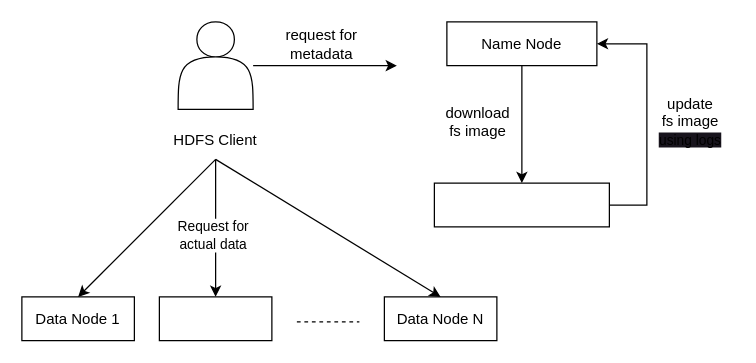
Image size: 756x363. Some labels were removed from this diagram. The shapes that lost their labels are listed below. From the top down, each one's centre as x and y in pixels, then its label:
the point at 521,204: Secondary Name Node
the point at 215,318: Data Node 2
